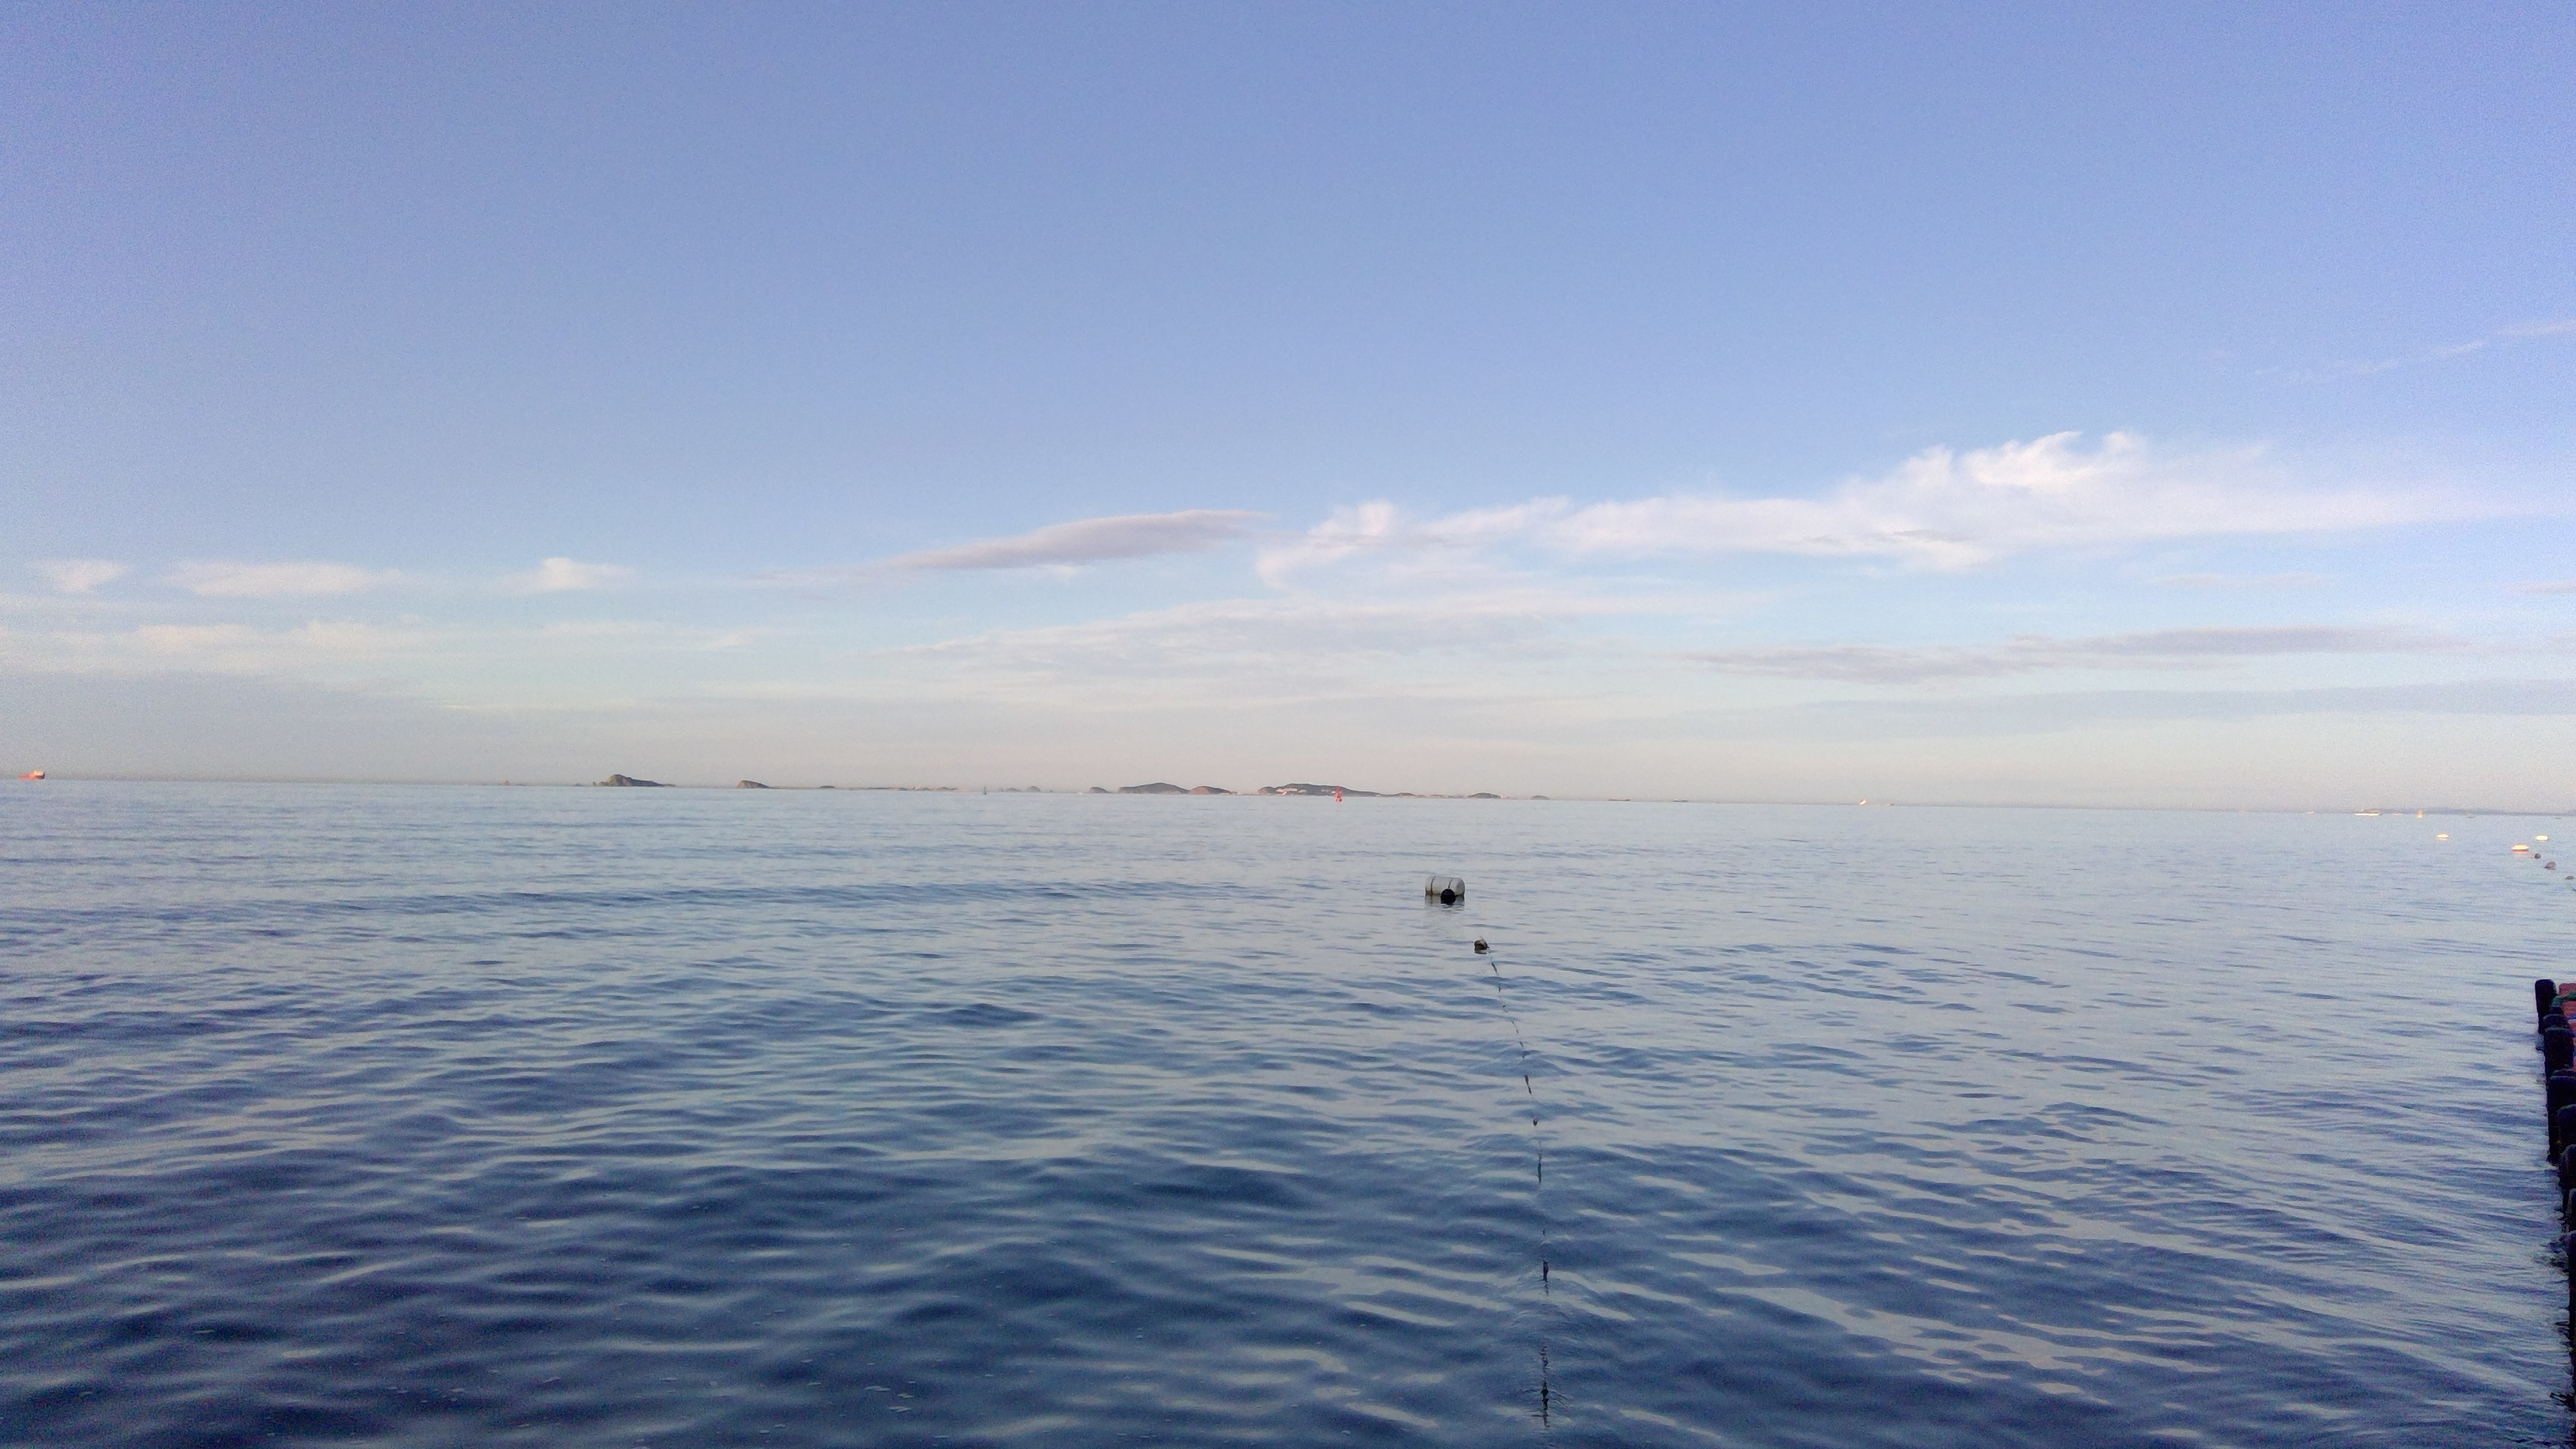buoy: (1330, 794, 1350, 812)
rock: (1265, 775, 1550, 796), (1090, 784, 1238, 803), (589, 768, 672, 787)
rubbish: (1417, 863, 1476, 920), (14, 764, 55, 786)
